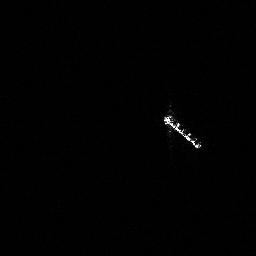ship: (161, 104, 204, 151)
